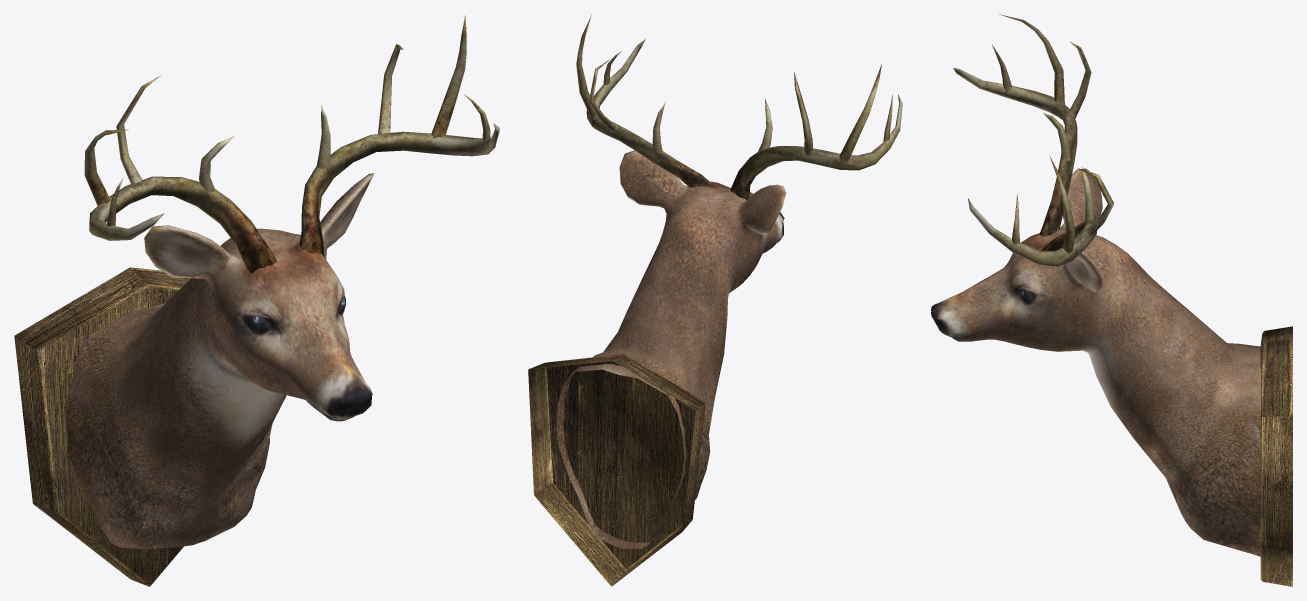
Rendered from Deer_Troffy.FBX.
The picture shows the model from 3 angles, left to right: view 1: azimuth 30°, elevation 25°; view 2: azimuth 150°, elevation 25°; view 3: azimuth 270°, elevation 25°; orthographic projection. The views are drawn at different scales.
Visible parts, largest first — view 1: Deer_Troffy; view 2: Deer_Troffy; view 3: Deer_Troffy.
Boxes of the visible parts, box(x1,y1,x2,y2) form: Deer_Troffy: box(14, 15, 499, 586); Deer_Troffy: box(528, 15, 902, 586); Deer_Troffy: box(931, 14, 1292, 586).
Size of the model in its own units: 97.09 by 148 by 96.69.
